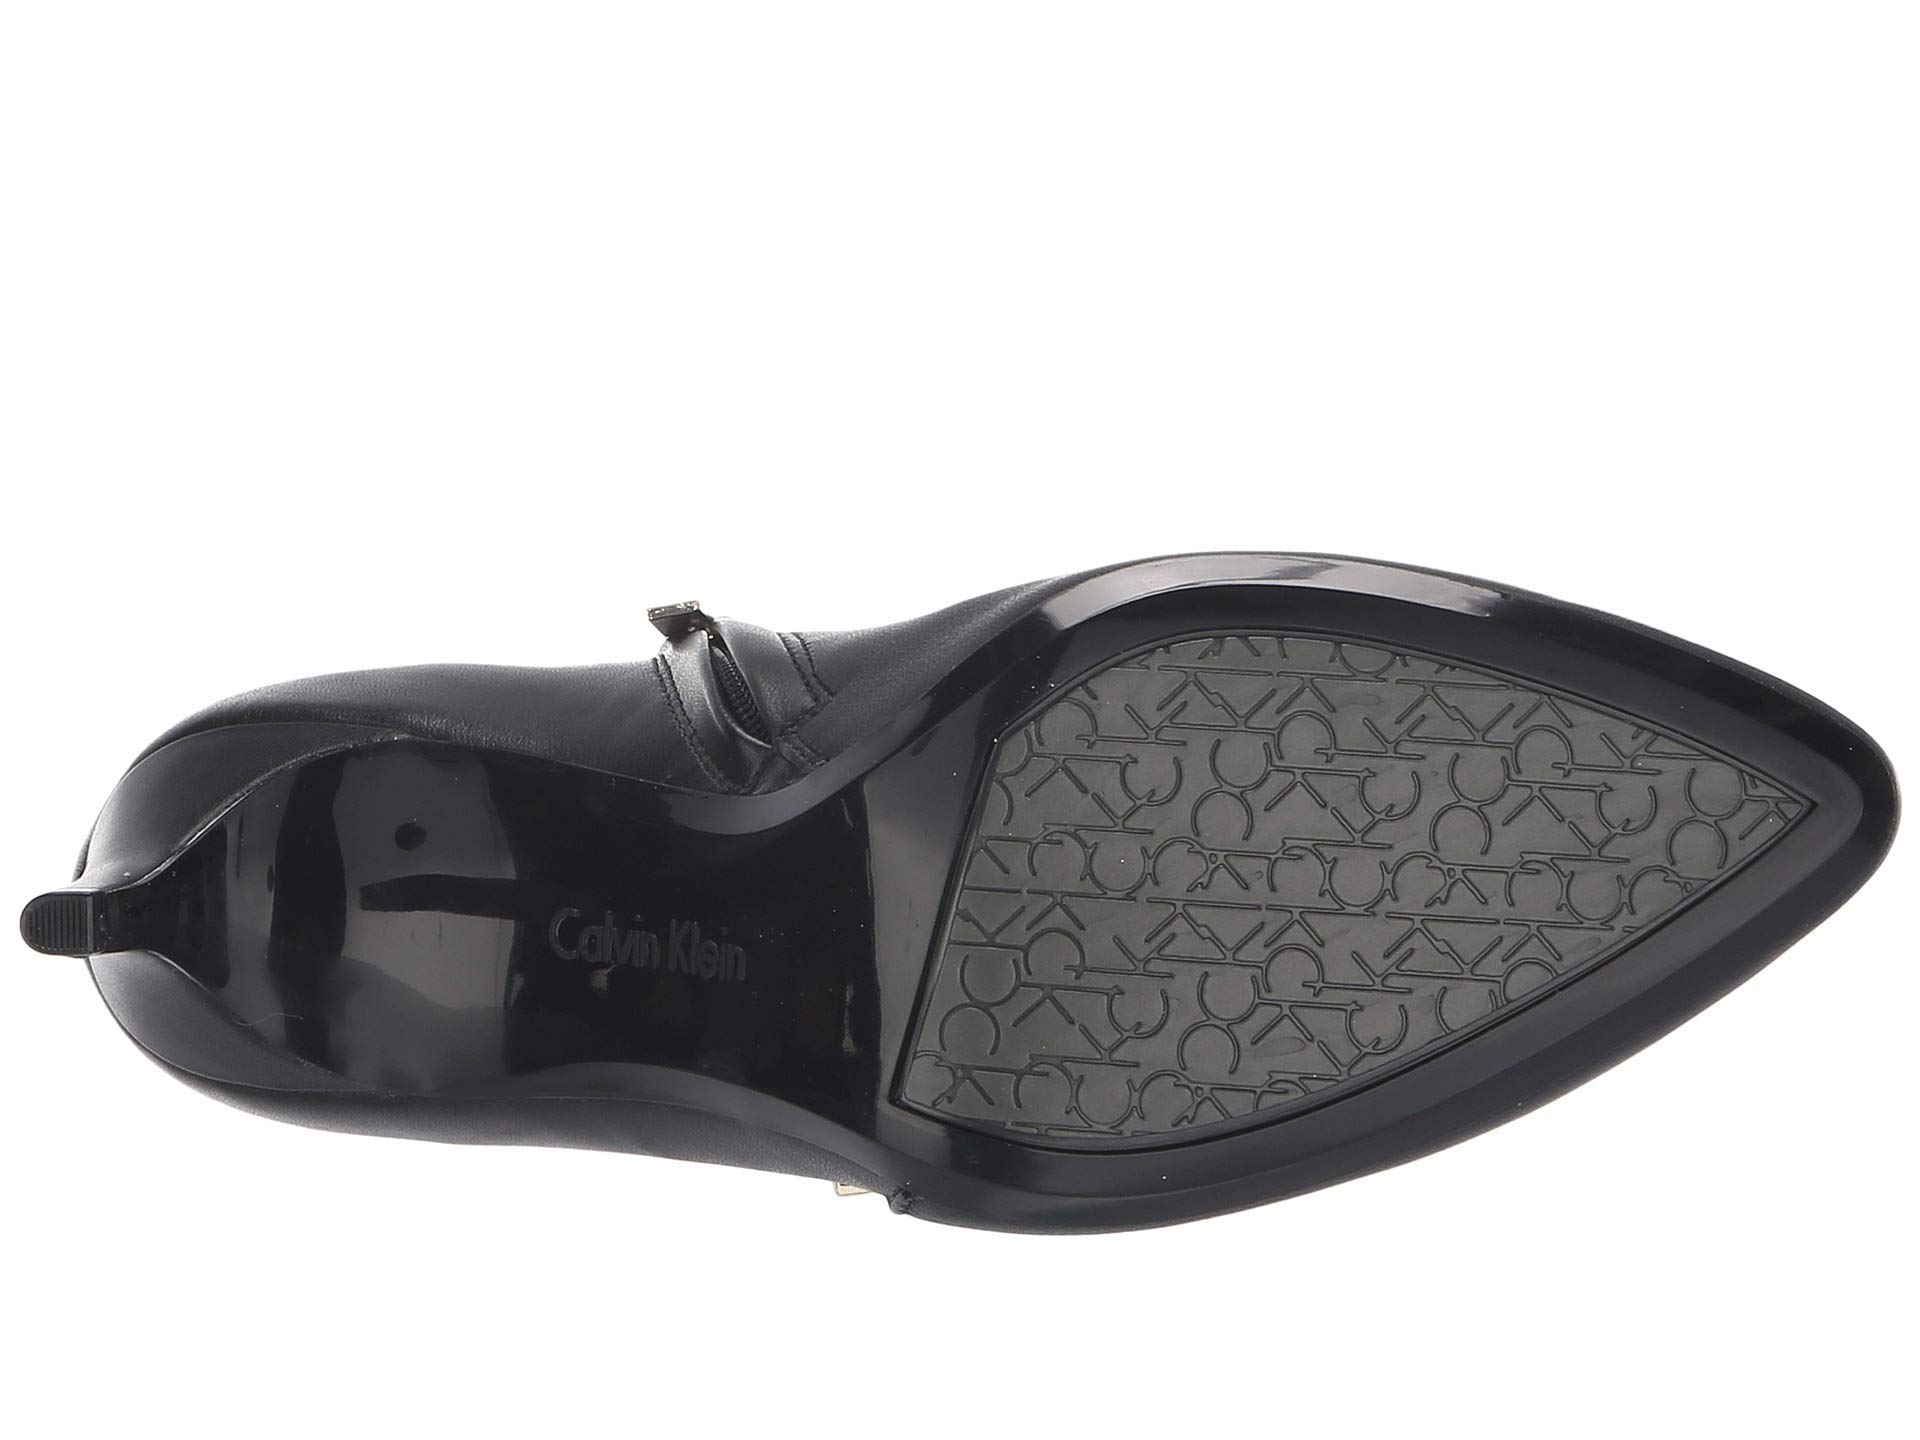exclude: (287, 709, 868, 1141)
line: (23, 888, 88, 951)
text: (1302, 656, 1586, 979), (1027, 706, 1296, 974)
